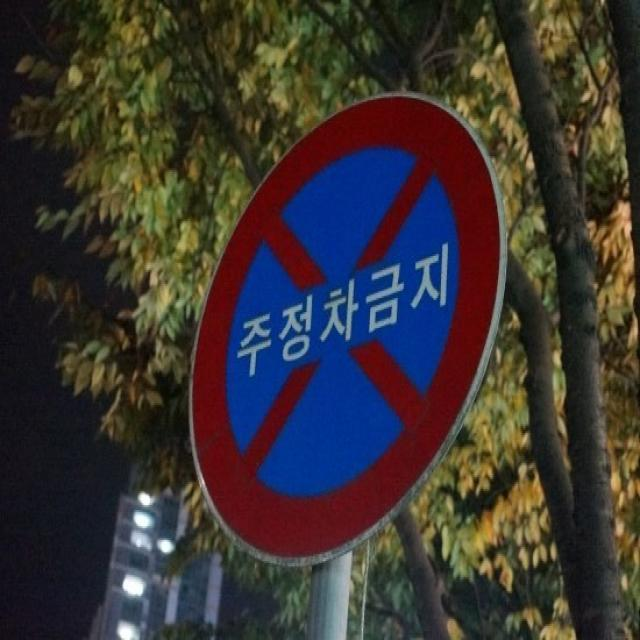regulatory_No_stop_or_parking: (175, 64, 524, 574)
